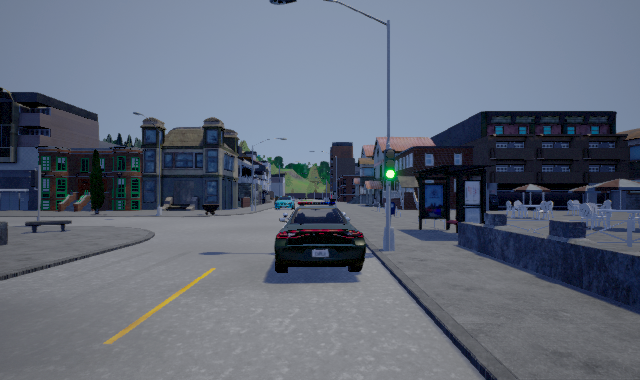traffic_light: (384, 143, 395, 186)
vehicle: (275, 199, 366, 273), (273, 196, 296, 211)
